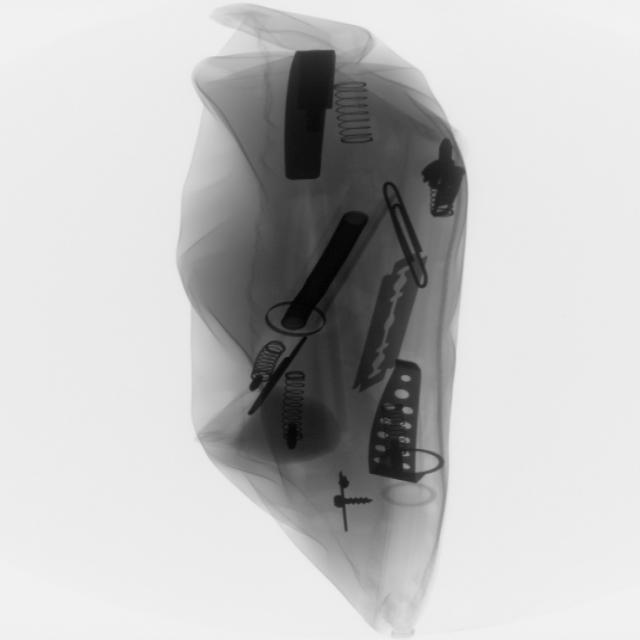BLADE: (354, 254, 424, 399)
